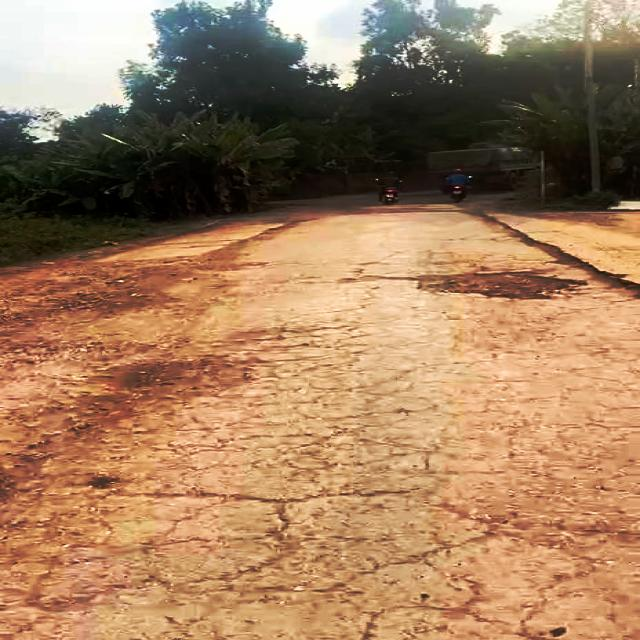pothole: (414, 270, 586, 300)
